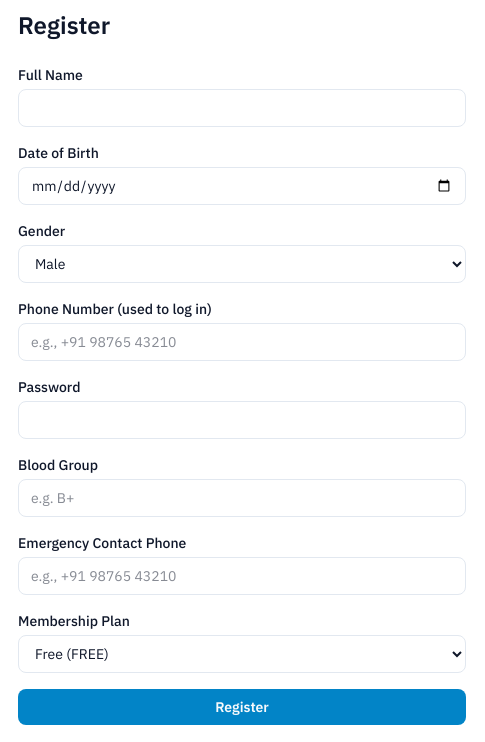
it: RegisterPage › submits valid data and shows the generated patient ID
In the field labelled "Full Name": (242, 108) [18, 89, 466, 127], type "Test Patient"
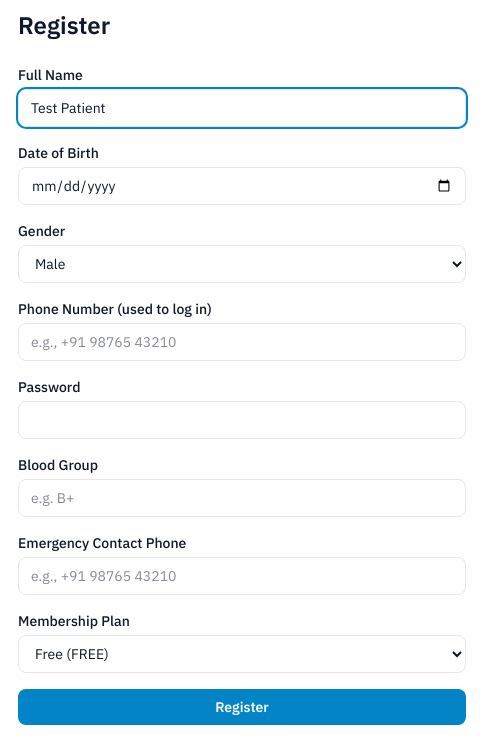
In the date field labelled "Date of Birth": (242, 186) [18, 167, 466, 205], type "1990-01-01"
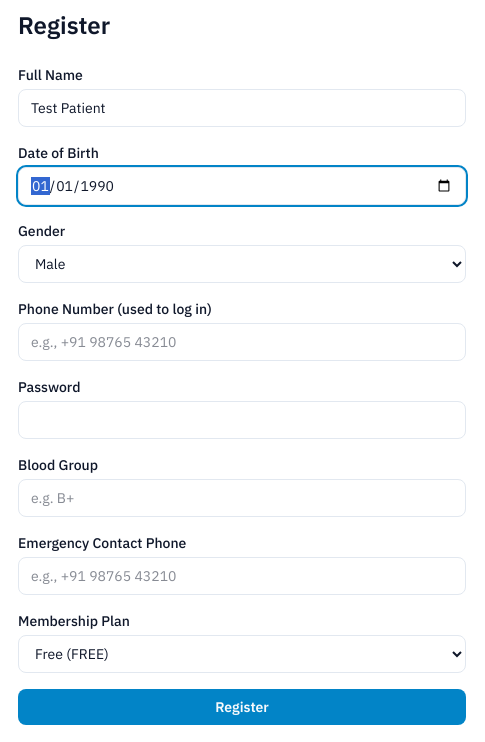
In the field labelled "Phone Number (used to log in)": (242, 342) [18, 323, 466, 361], type "+919876500000"
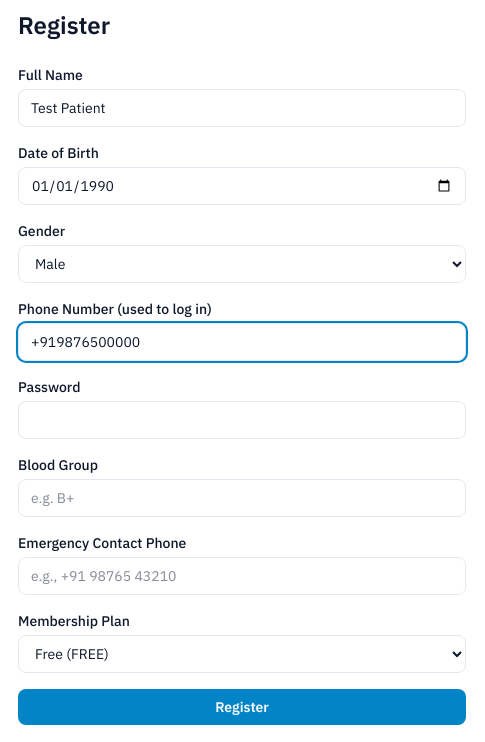
In the password field labelled "Password": (242, 420) [18, 401, 466, 439], type "Patient@123"
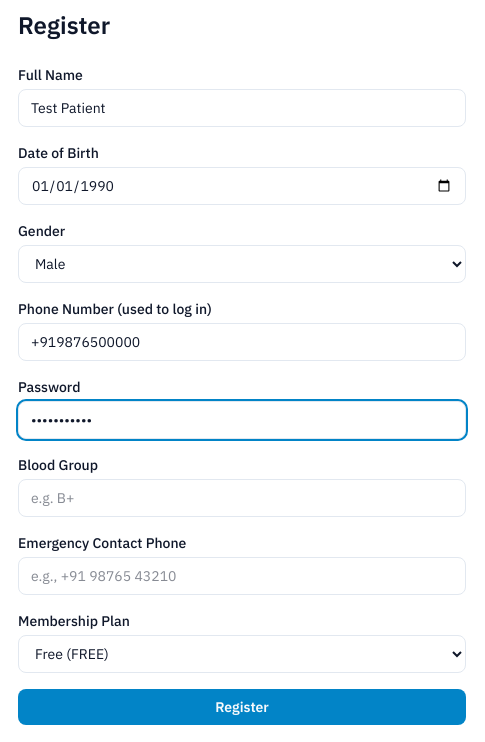
In the field labelled "Emergency Contact Phone": (242, 576) [18, 557, 466, 595], type "+919876543210"
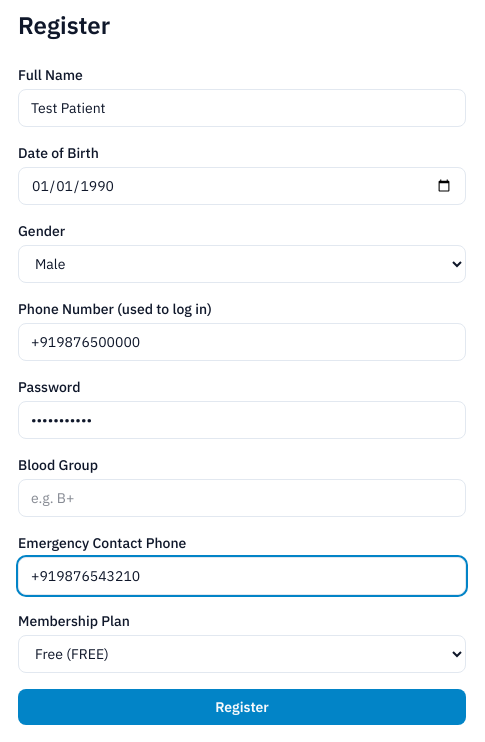
Click the button "Register": (242, 707) [18, 689, 466, 725]
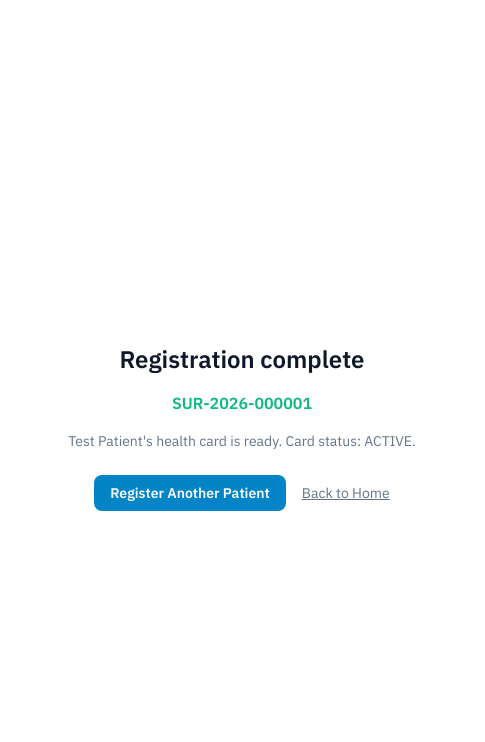
Expected: the text "SUR-2026-000001" is shown, [172, 391, 312, 415]
Expected: the button "Register Another Patient" is shown, [94, 475, 286, 511]
